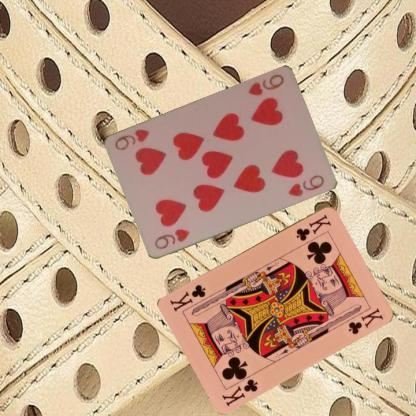9h: (245, 72, 285, 98), (151, 226, 191, 251)
Kc: (219, 376, 260, 408), (293, 211, 333, 242)
